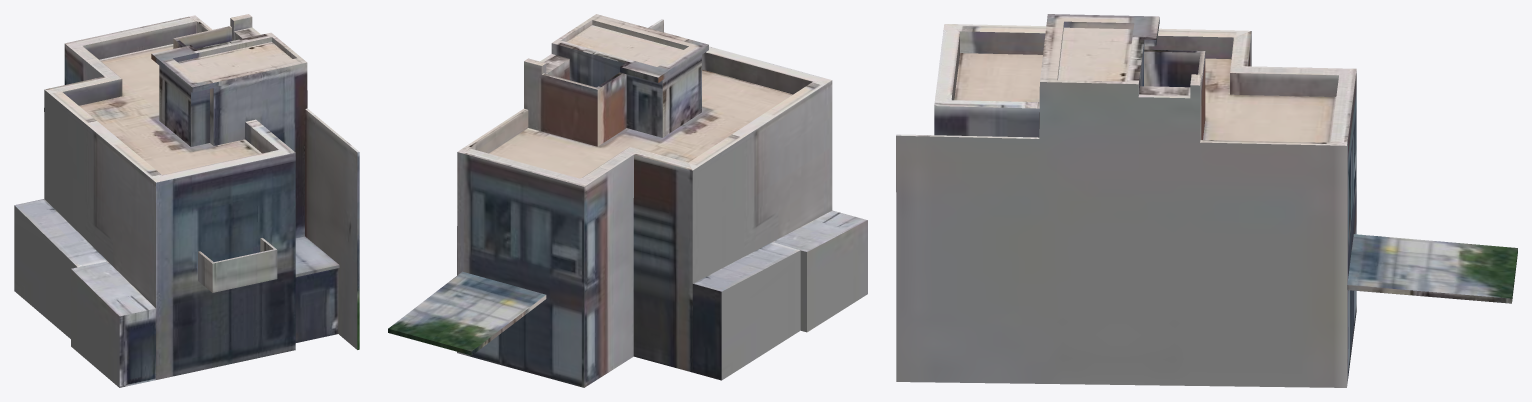
The picture shows the model from 3 angles, left to right: view 1: azimuth 30°, elevation 25°; view 2: azimuth 150°, elevation 25°; view 3: azimuth 270°, elevation 25°; orthographic projection. The views are drawn at different scales.
Visible parts, largest first — view 1: B286294028801062A0; view 2: B286294028801062A0; view 3: B286294028801062A0.
Boxes of the visible parts, <box> form: B286294028801062A0: <box>14,14,359,387</box>; B286294028801062A0: <box>388,14,867,387</box>; B286294028801062A0: <box>896,14,1517,387</box>.
Bounding box in the file's own units: 11.18 × 10.98 × 20.41.
Materials: 1 (1 with a texture image).
